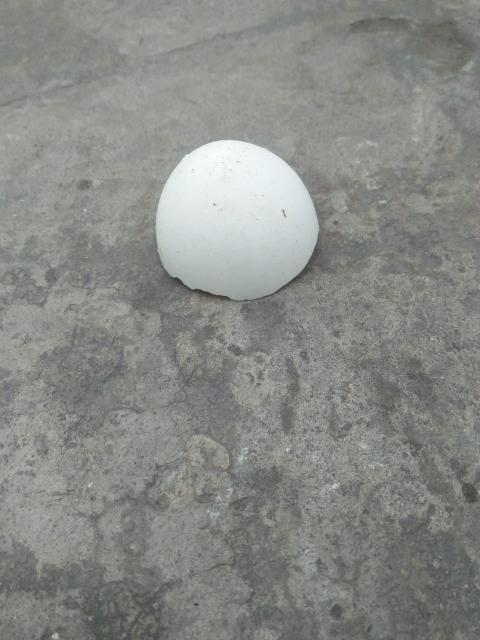Roto: (154, 138, 320, 301)
